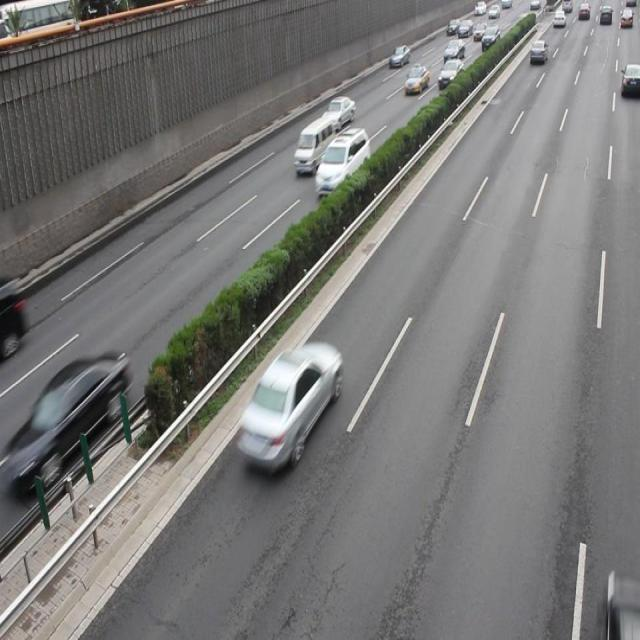car: (23, 348, 128, 486), (237, 338, 339, 470), (319, 95, 354, 129)
truck: (314, 127, 370, 194), (294, 117, 333, 176)
